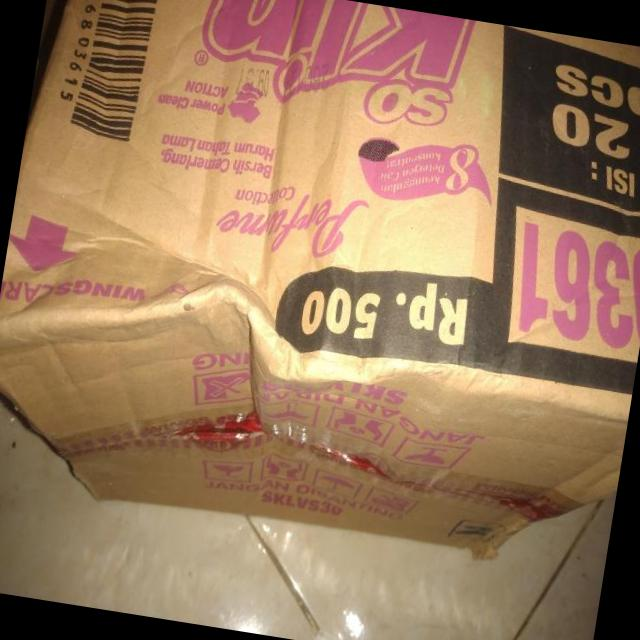box: (1, 14, 528, 640)
